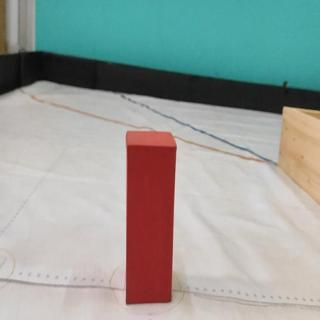redbox: (124, 129, 175, 306)
